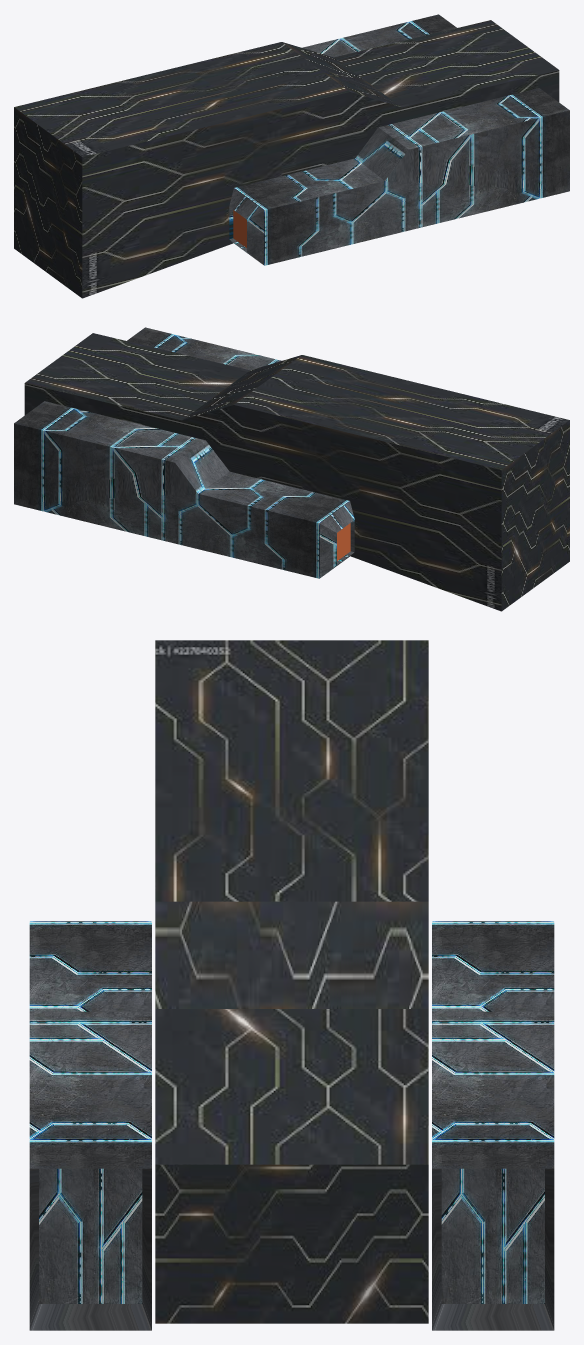
The model's file is small ship.fbx.
The picture shows the model from 3 angles, top to bottom: view 1: azimuth 30°, elevation 25°; view 2: azimuth 150°, elevation 25°; view 3: azimuth 270°, elevation 25°; orthographic projection. The views are drawn at different scales.
Parts seen in each view (by area): view 1: Cube.001, Cube; view 2: Cube.001, Cube; view 3: Cube.001, Cube.
Boxes of the visible parts, bbox=[...] form: Cube.001: bbox=[14, 20, 559, 298]; Cube: bbox=[229, 14, 569, 265]; Cube.001: bbox=[24, 333, 569, 611]; Cube: bbox=[14, 327, 354, 578]; Cube.001: bbox=[155, 640, 428, 1323]; Cube: bbox=[29, 921, 554, 1330].
Bounding box in the file's own units: 880 × 249 × 419.
